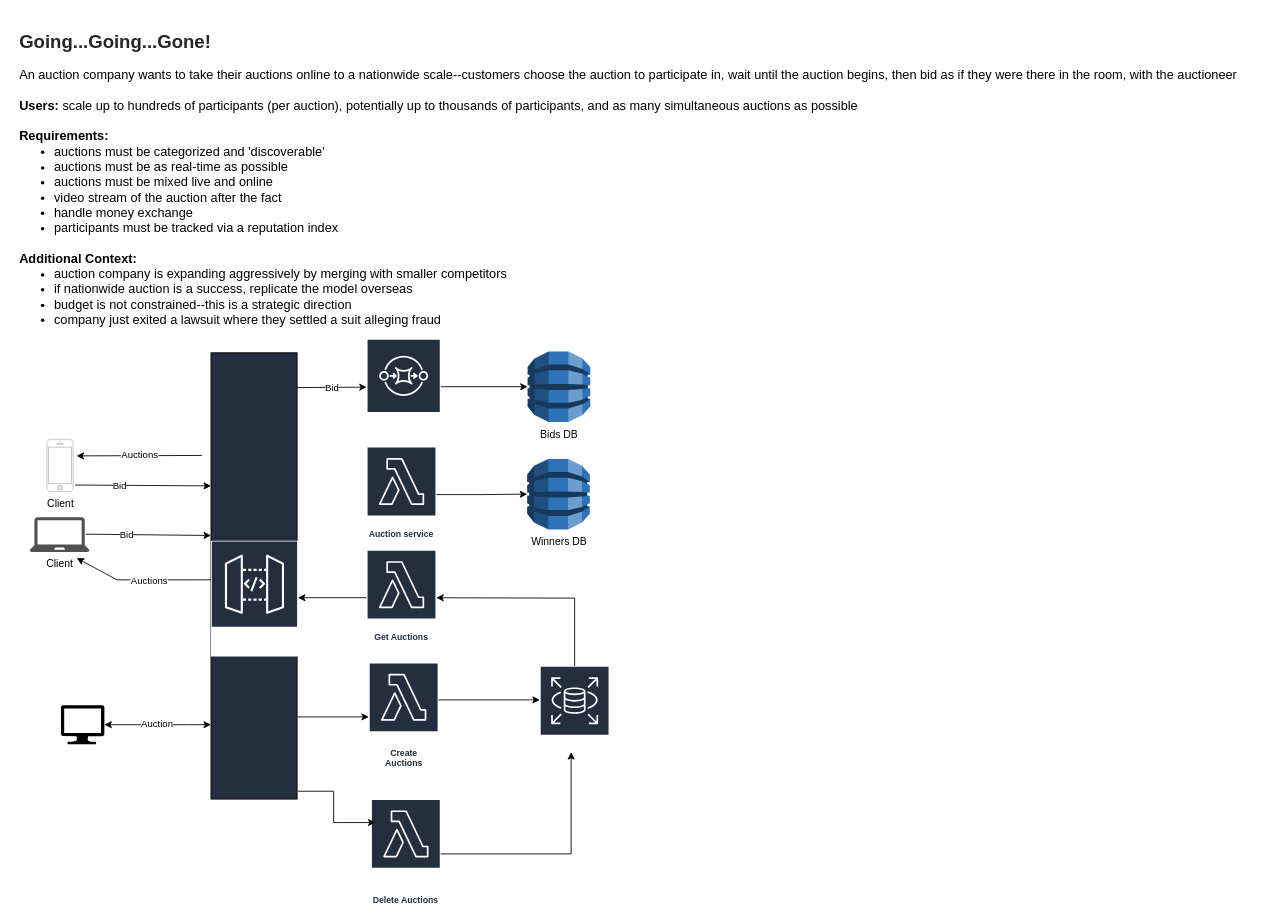
Some shapes in this 1282 by 924 pixel diagram are drawn without their labels. Each missing label, with the centre of its shape:
"Admin" goes at (x=82, y=724).
"Amazon API Gateway" goes at (x=254, y=598).
"Amazon RDS" goes at (x=574, y=709).
"Amazon SQS (FIFO)" goes at (x=403, y=386).
